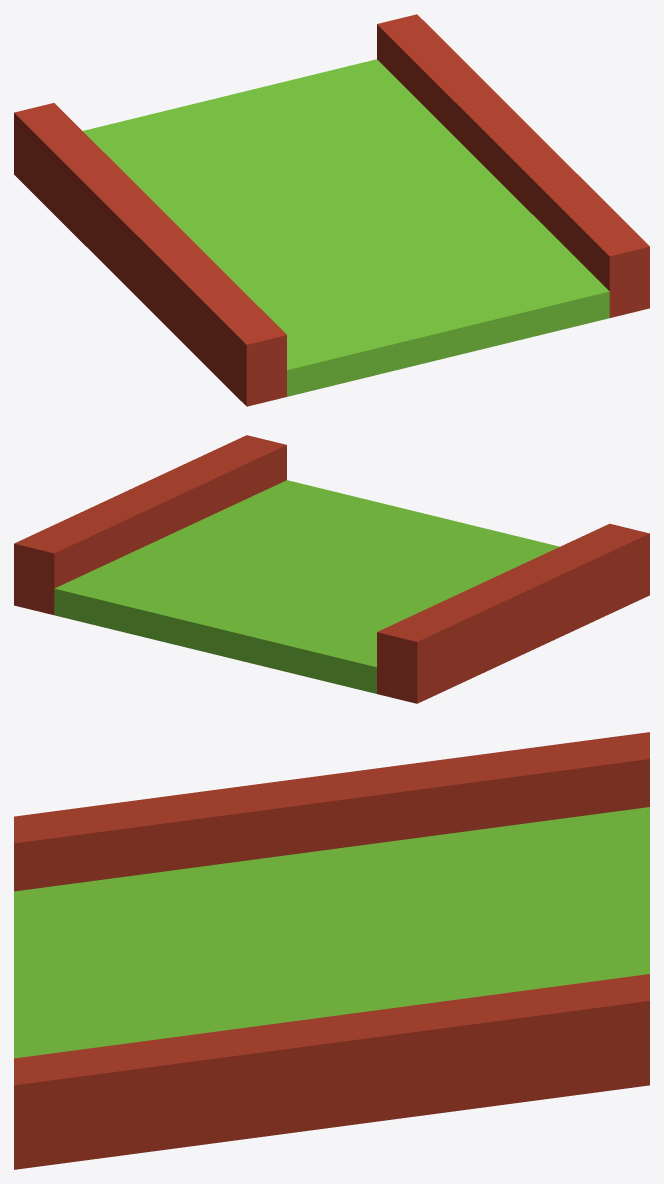
Rendered from Ramp_1_01.obj.
The picture shows the model from 3 angles, top to bottom: view 1: azimuth 30°, elevation 25°; view 2: azimuth 150°, elevation 25°; view 3: azimuth 270°, elevation 25°; orthographic projection. The views are drawn at different scales.
Visible parts, largest first — view 1: Mesh1_Ramp_1_Model; view 2: Mesh1_Ramp_1_Model; view 3: Mesh1_Ramp_1_Model.
Boxes of the visible parts, bbox=[...] form: Mesh1_Ramp_1_Model: bbox=[14, 14, 649, 406]; Mesh1_Ramp_1_Model: bbox=[14, 435, 649, 703]; Mesh1_Ramp_1_Model: bbox=[14, 732, 649, 1169].
Size of the model in its own units: 3 by 0.88 by 3.
